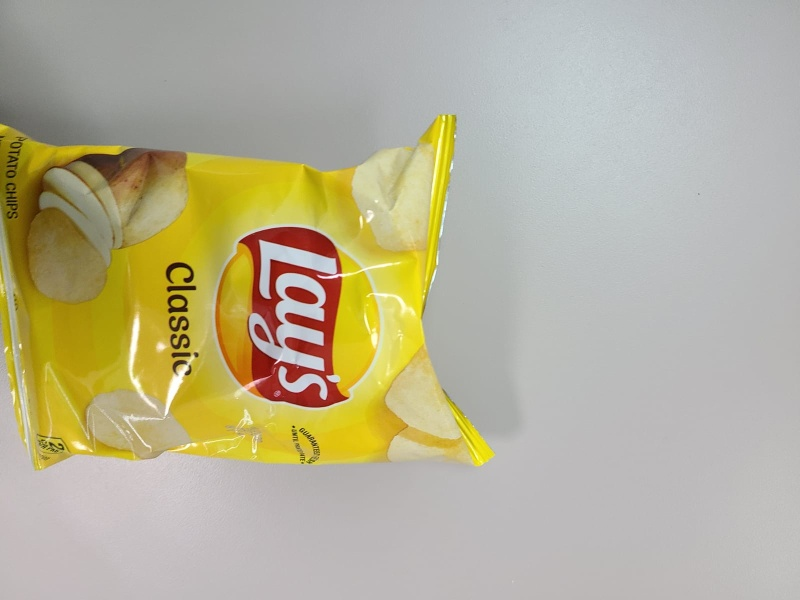lays: (1, 108, 501, 477)
